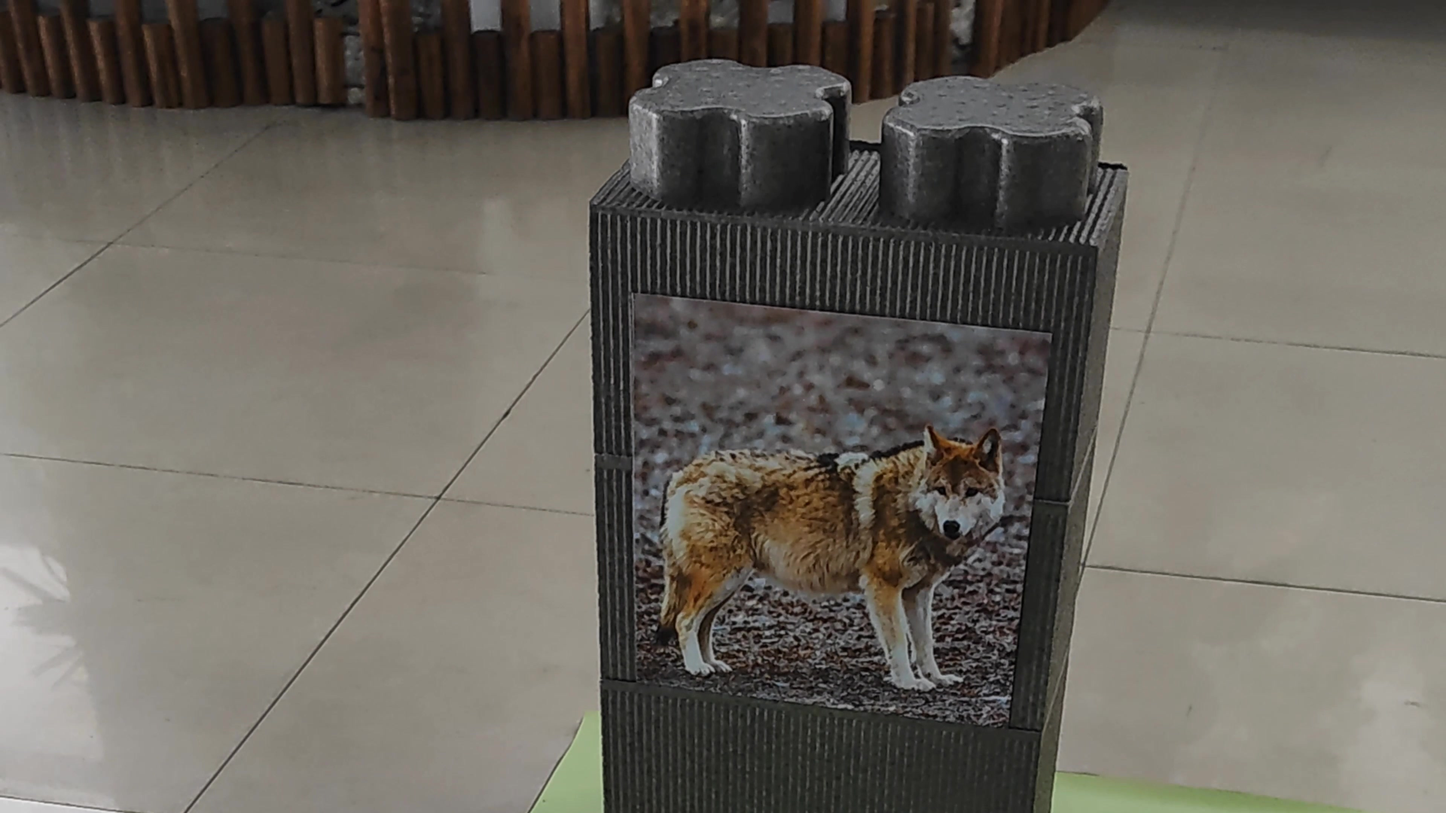wolf: (636, 403, 1019, 709)
